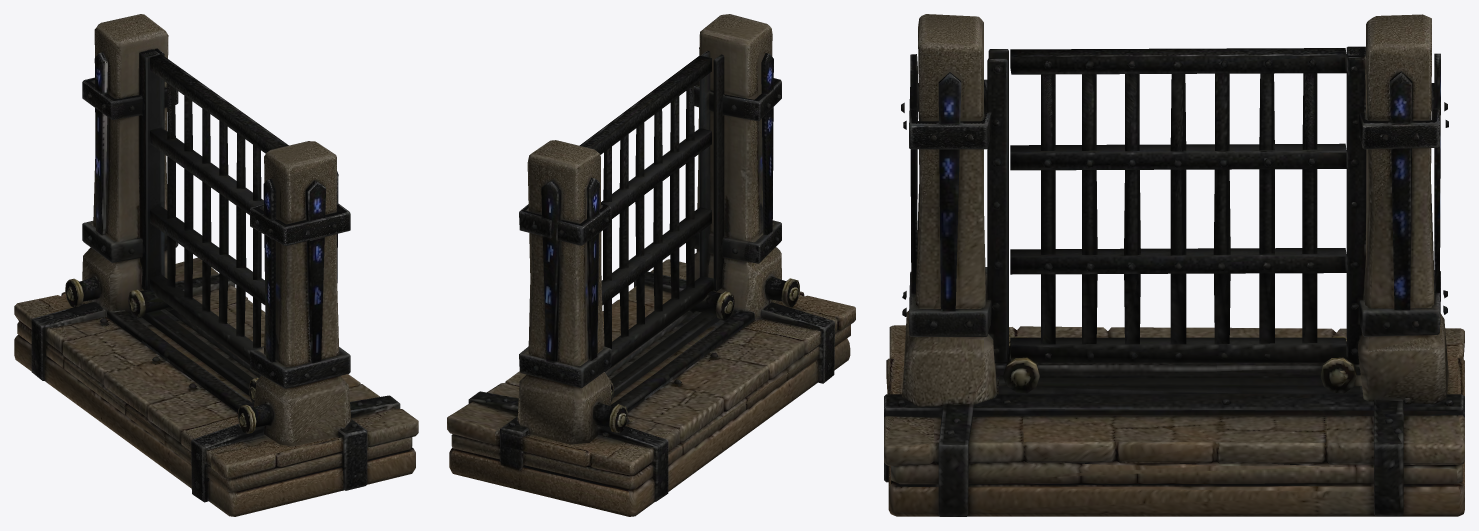
Rendered from tripo_convert_c7e3b510-c143-4c89-ae1f-82bb48221e37.fbx.
3 views of the same model, side by side, from view 1: azimuth 30°, elevation 25°; view 2: azimuth 150°, elevation 25°; view 3: azimuth 270°, elevation 25° (orthographic). The views are drawn at different scales.
Visible parts, largest first — view 1: tripo_node_c7e3b510; view 2: tripo_node_c7e3b510; view 3: tripo_node_c7e3b510.
Part boxes in pixels (bbox=[...]): tripo_node_c7e3b510: bbox=[14, 14, 418, 516]; tripo_node_c7e3b510: bbox=[447, 14, 855, 516]; tripo_node_c7e3b510: bbox=[884, 14, 1464, 516].
Bounding box in the file's own units: 0.5098 × 0.8145 × 0.998.
1 material, 1 textured.
